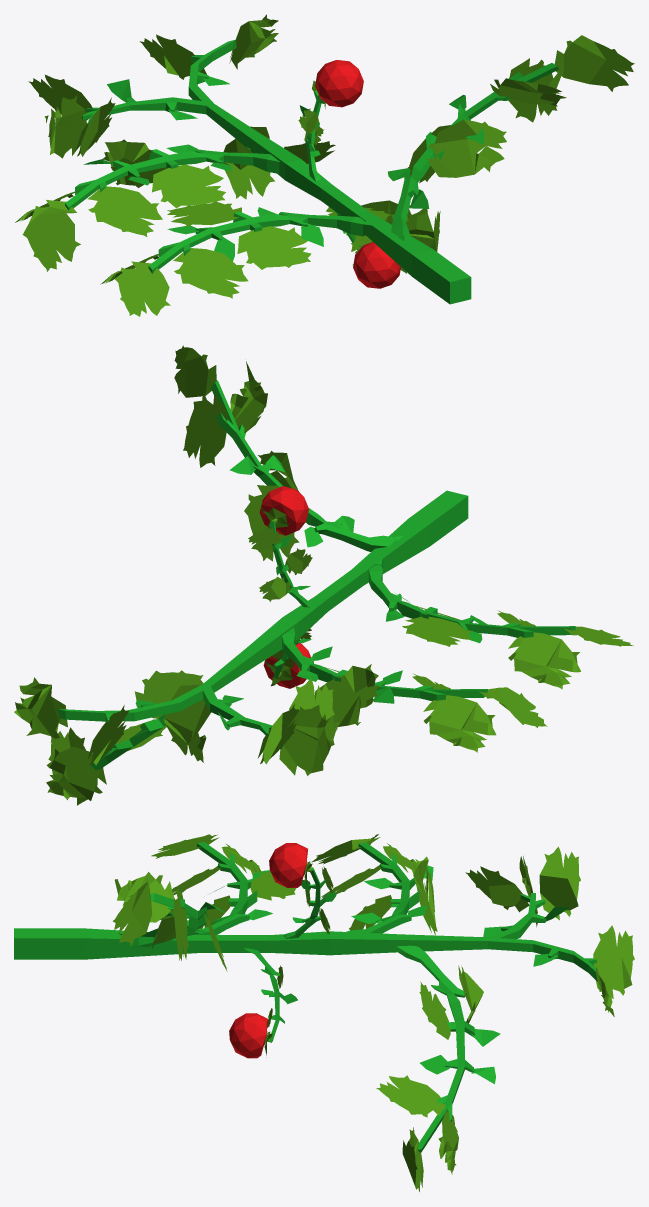
File: tomate-alto.glb
The picture shows the model from 3 angles, top to bottom: view 1: azimuth 30°, elevation 25°; view 2: azimuth 150°, elevation 25°; view 3: azimuth 270°, elevation 25°; orthographic projection. The views are drawn at different scales.
Parts seen in each view (by area): view 1: Cube.001, Cube, tomate; view 2: Cube.001, Cube, tomate; view 3: Cube, Cube.001, tomate.
Boxes of the visible parts, left/top/right/bottom form: Cube.001: left=15, top=14, right=634, bottom=316; Cube: left=65, top=39, right=558, bottom=304; tomate: left=314, top=60, right=400, bottom=288; Cube.001: left=14, top=345, right=633, bottom=805; Cube: left=57, top=380, right=575, bottom=770; tomate: left=259, top=486, right=310, bottom=688; Cube: left=14, top=842, right=601, bottom=1152; Cube.001: left=113, top=834, right=634, bottom=1191; tomate: left=229, top=843, right=312, bottom=1058.
Size of the model in its own units: 4.09 by 2.75 by 4.82.
